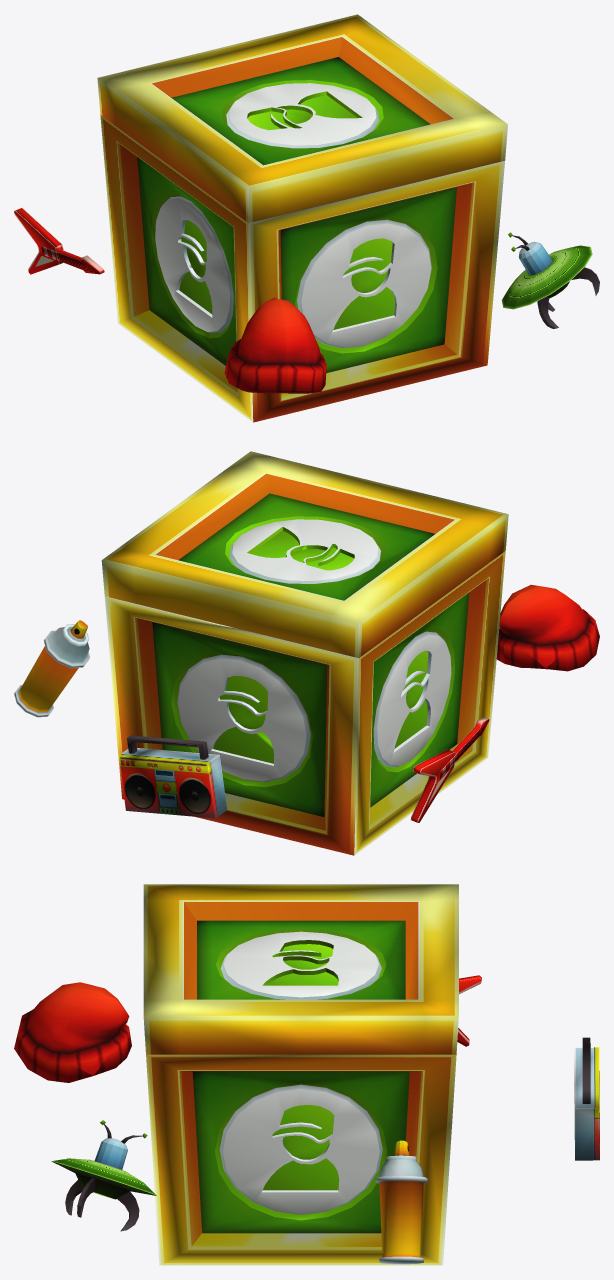
Rendered from tokenMysteryBoxIcon.glb.
3 renders of one model, top to bottom at view 1: azimuth 30°, elevation 25°; view 2: azimuth 150°, elevation 25°; view 3: azimuth 270°, elevation 25°, orthographic. The views are drawn at different scales.
Parts seen in each view (by area): view 1: model, unlocker_tricky, unlocker_yutani, unlocker_spike; view 2: model, unlocker_fresh, unlocker_tricky, unlocker_jake, unlocker_spike; view 3: model, unlocker_tricky, unlocker_jake, unlocker_yutani, unlocker_fresh.
Boxes of the visible parts, x1,y1,x2,y2 form: model: (97,14,507,422); unlocker_tricky: (224,297,326,393); unlocker_yutani: (501,232,599,328); unlocker_spike: (14,208,104,274); model: (101,451,508,855); unlocker_fresh: (118,735,227,818); unlocker_tricky: (496,584,599,671); unlocker_jake: (14,620,89,717); unlocker_spike: (410,717,489,822); model: (143,884,458,1265); unlocker_tricky: (14,982,131,1082); unlocker_jake: (375,1140,427,1264); unlocker_yutani: (51,1120,156,1231); unlocker_fresh: (574,1037,599,1160).
Size of the model in its own units: 15.32 by 7.99 by 16.64.
Materials: 1 (1 with a texture image).
